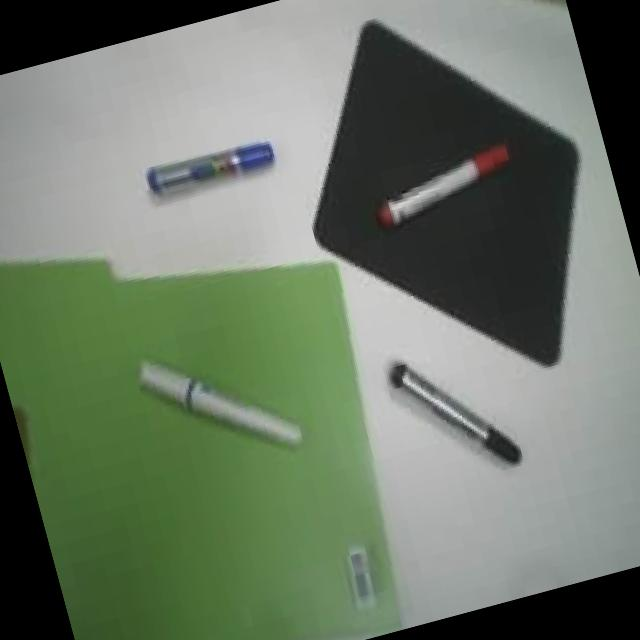board-marker: (140, 362, 302, 442), (390, 363, 521, 460), (378, 142, 510, 224), (148, 141, 274, 192)
